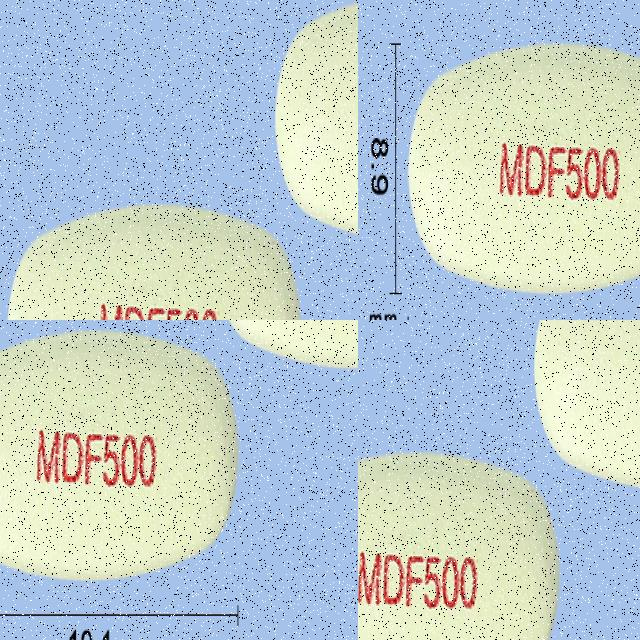Carbastar: (4, 1, 257, 320), (285, 0, 358, 320)
Clarid: (358, 441, 560, 640), (532, 320, 640, 492)
Clorid: (0, 320, 242, 580)
Daewoong Bio Clarithromycin: (407, 44, 640, 297)
